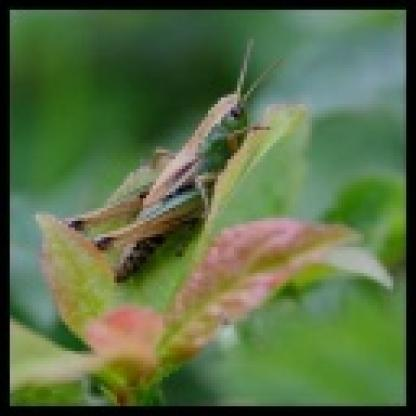grasshopper: (73, 39, 267, 287)
